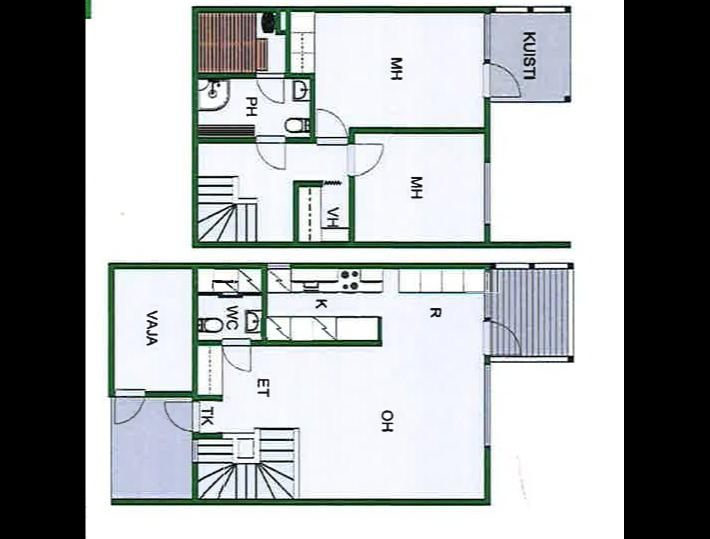bathroom: (198, 76, 311, 137), (198, 295, 262, 343)
door: (482, 315, 523, 360), (484, 57, 524, 100), (314, 106, 351, 148), (113, 387, 150, 426), (348, 140, 385, 178), (220, 334, 253, 374), (256, 130, 288, 171), (162, 400, 201, 430), (253, 70, 286, 103)
perimeter: (111, 262, 494, 504), (192, 5, 493, 248)
stairs: (196, 174, 257, 244), (194, 460, 299, 500), (256, 427, 298, 498), (197, 437, 235, 501)
window: (480, 362, 494, 452), (482, 154, 494, 230), (262, 258, 296, 274), (190, 435, 201, 466)
